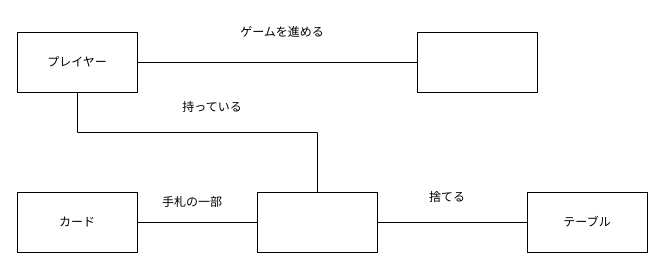
The diagram is 665 pixels wide and 279 high, and some of its shapes have lost their labels. The shapes that lost their labels are listed below. From the top down, each one's box as (x1, y1, x2, y2) in pixels, then its label:
(416, 32, 538, 92): 進行役
(256, 192, 378, 252): 手札
